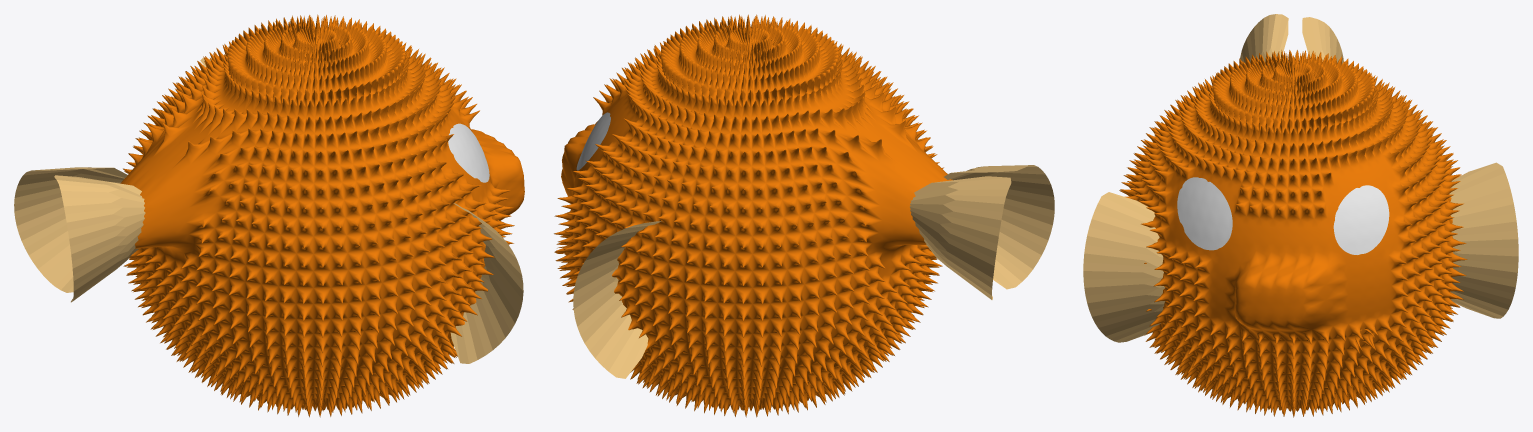
Rendered from pufferfish.fbx.
3 renders of one model, left to right at view 1: azimuth 30°, elevation 25°; view 2: azimuth 150°, elevation 25°; view 3: azimuth 270°, elevation 25°, orthographic. The views are drawn at different scales.
Parts seen in each view (by area): view 1: Sphere; view 2: Sphere; view 3: Sphere.
Boxes of the visible parts, x1,y1,x2,y2 form: Sphere: (14, 14, 524, 417); Sphere: (554, 14, 1054, 417); Sphere: (1083, 14, 1518, 417).
Bounding box in the file's own units: 43.69 × 32.67 × 39.31.
